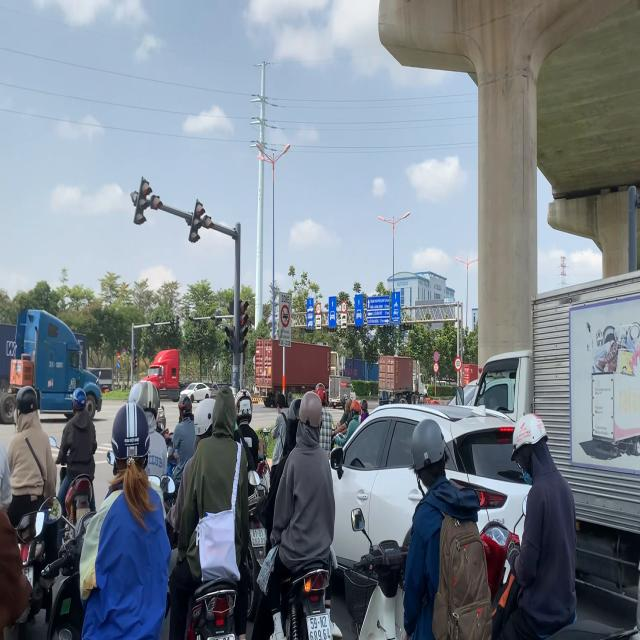Cam con lai: (281, 304, 290, 328), (433, 362, 439, 372)
Cam dung va do: (434, 350, 439, 362)
Cam nguoc chieu: (117, 352, 121, 360)
Hieu lenh: (117, 361, 121, 370)
Toc do toi da: (453, 356, 462, 371), (341, 300, 347, 313), (316, 303, 322, 315)
